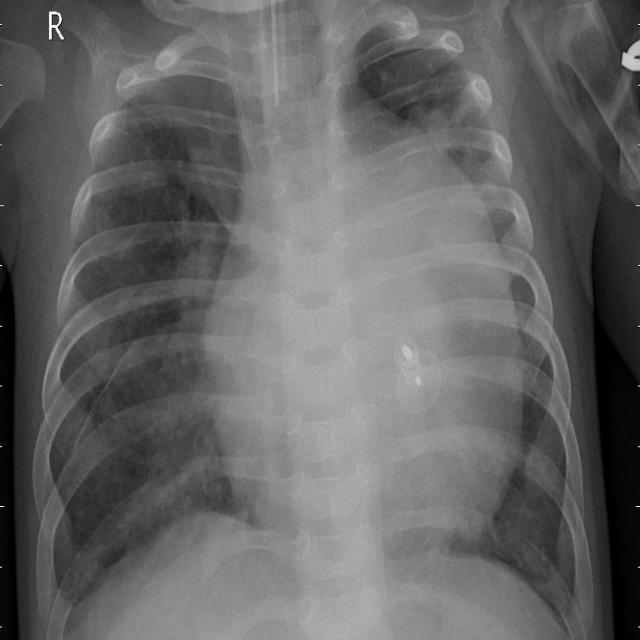low-pneumonia: (157, 221, 231, 447), (118, 458, 210, 535), (424, 92, 485, 169)
